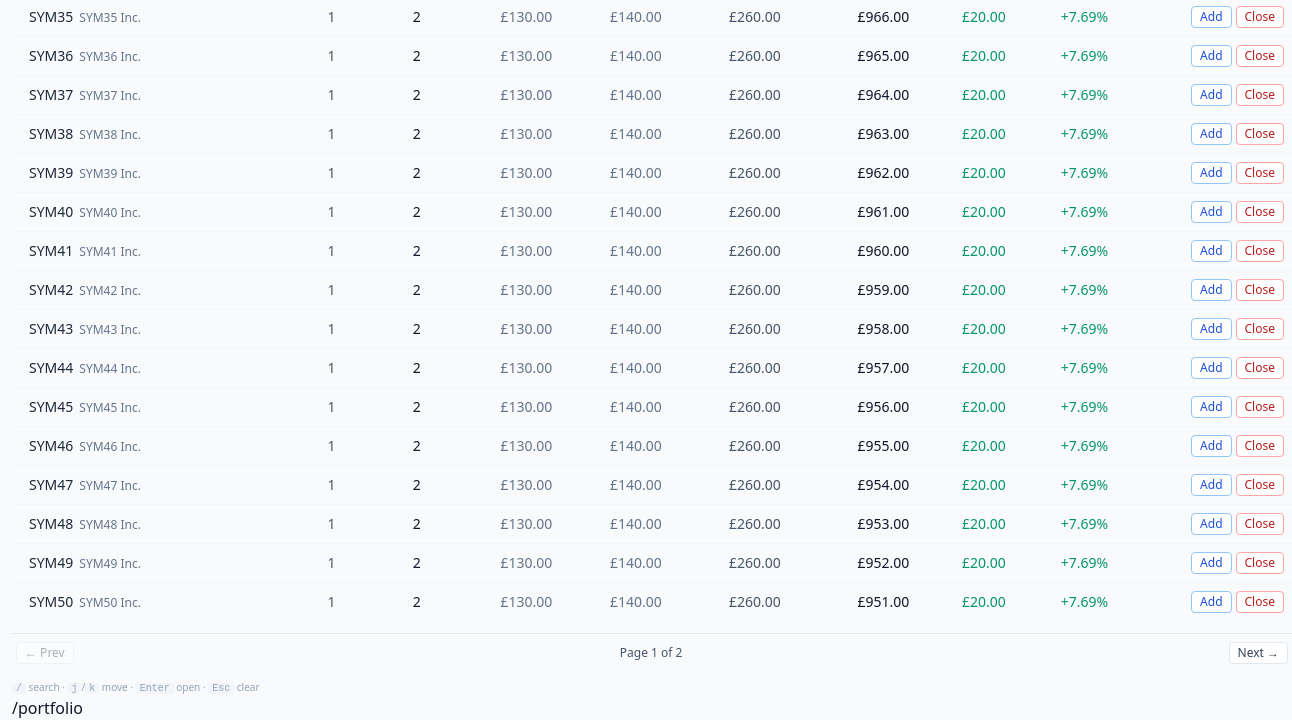
Scenario: PortfolioPage — search + pagination › paginates when >50 positions exist
(page scrolled)
Expected: the text "Page 1 of 2" is shown, [620,645,682,661]
Click the button "Next →": (1258, 653) [1228,642,1288,664]
(page scrolled)
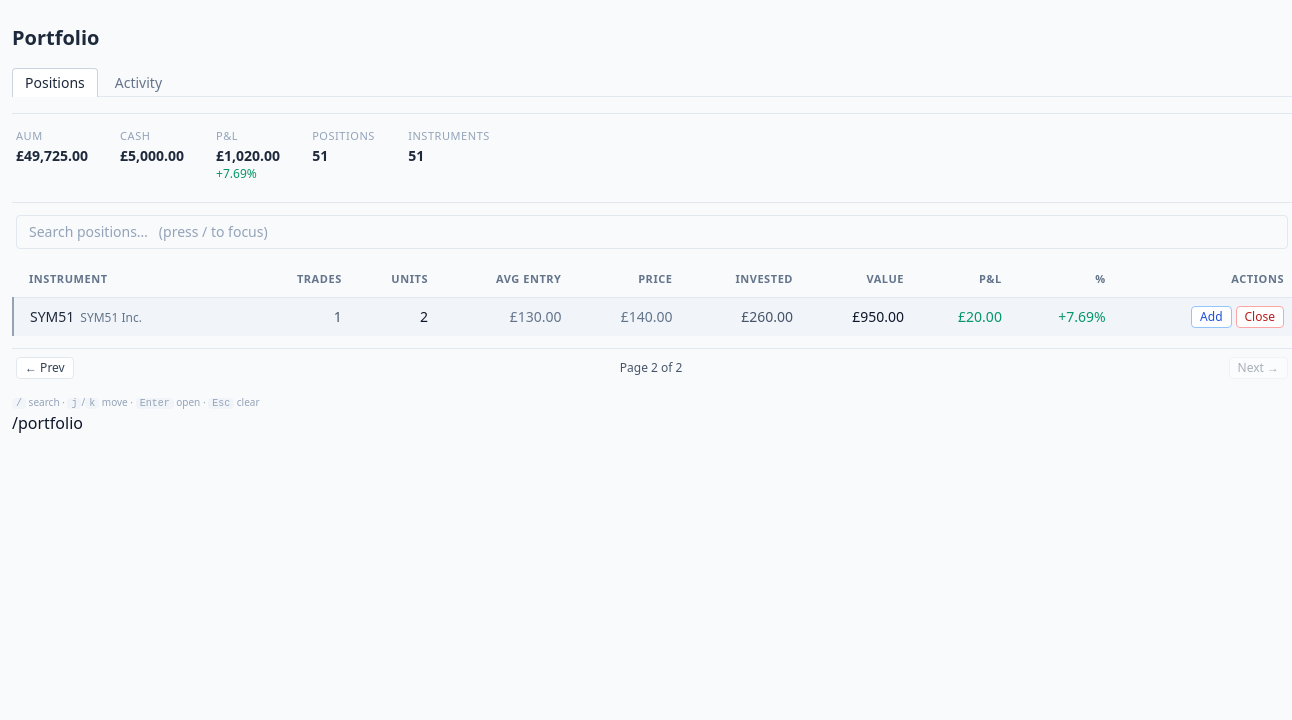
Result: the text "Page 2 of 2" is shown at [620,360,682,376]
